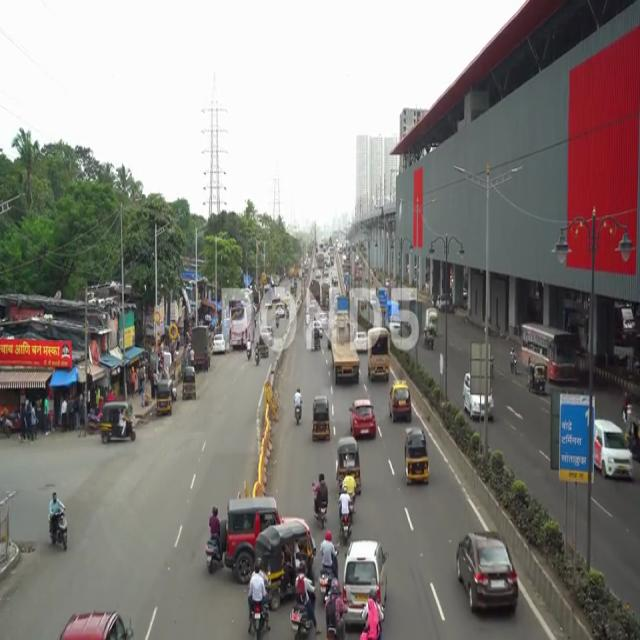bus: (520, 320, 583, 384)
car: (450, 529, 522, 618), (595, 416, 634, 482), (351, 398, 378, 438), (390, 380, 413, 424)
motorbike: (43, 484, 71, 557), (289, 561, 314, 640), (248, 558, 268, 640), (324, 577, 345, 640), (336, 486, 351, 544), (312, 471, 326, 530), (294, 384, 302, 428)
rikshaw: (98, 399, 138, 440), (404, 428, 430, 487), (312, 398, 330, 444), (530, 360, 546, 395)
